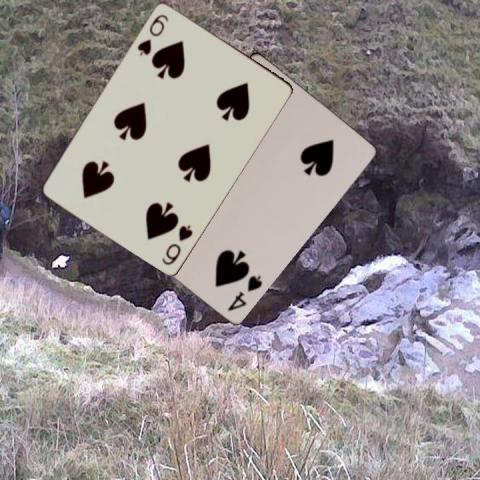4s: (224, 271, 264, 312)
6s: (134, 10, 170, 56), (159, 221, 194, 267)
